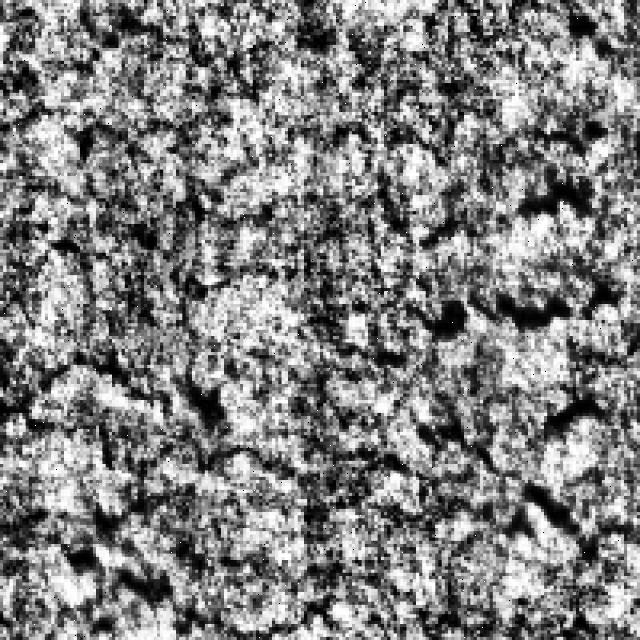Pitted_Surface: (31, 346, 614, 628), (67, 118, 618, 333)
